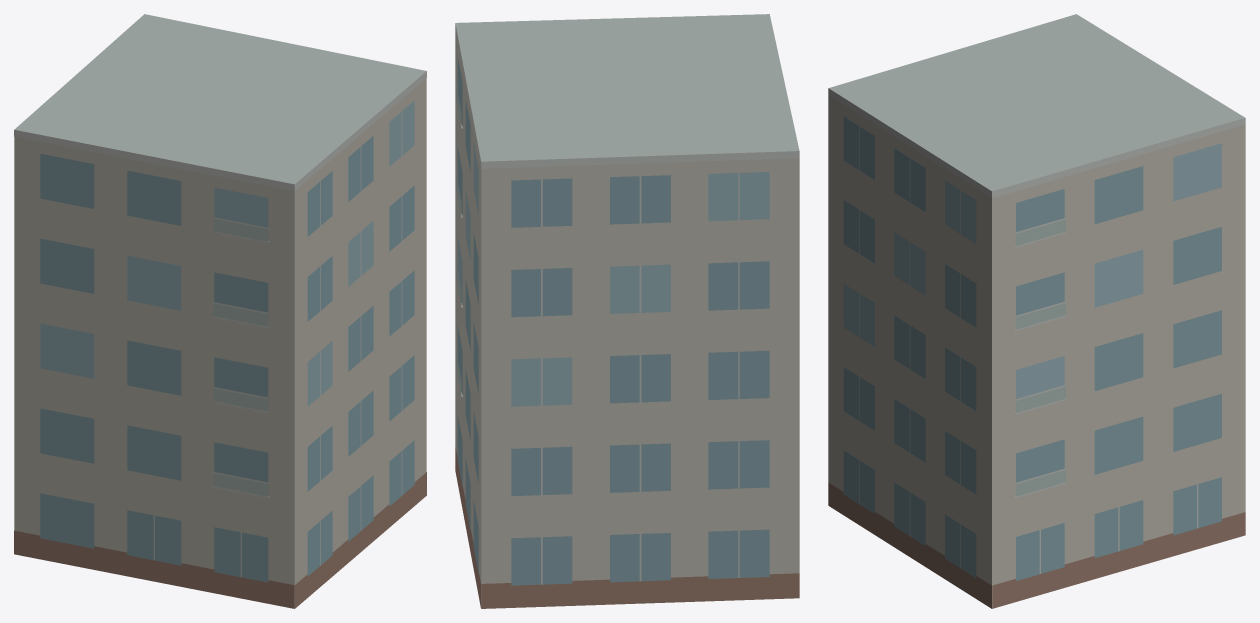
The model's file is survey-upis-32707948.glb.
3 renders of one model, left to right at view 1: azimuth 30°, elevation 25°; view 2: azimuth 150°, elevation 25°; view 3: azimuth 270°, elevation 25°, orthographic. The views are drawn at different scales.
Visible parts, largest first — view 1: survey-upis-32707948.tmp; view 2: survey-upis-32707948.tmp; view 3: survey-upis-32707948.tmp.
Part boxes in pixels (x1,y1,x2,y2): survey-upis-32707948.tmp: (14,14,426,608); survey-upis-32707948.tmp: (455,14,799,608); survey-upis-32707948.tmp: (828,14,1245,608).
Bounding box in the file's own units: 13.91 × 15.25 × 13.82.
